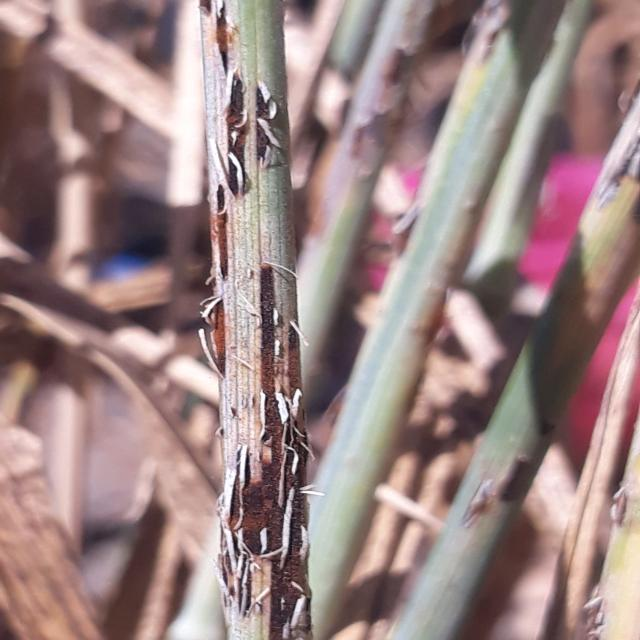black_stem_rust: (142, 5, 640, 637)
